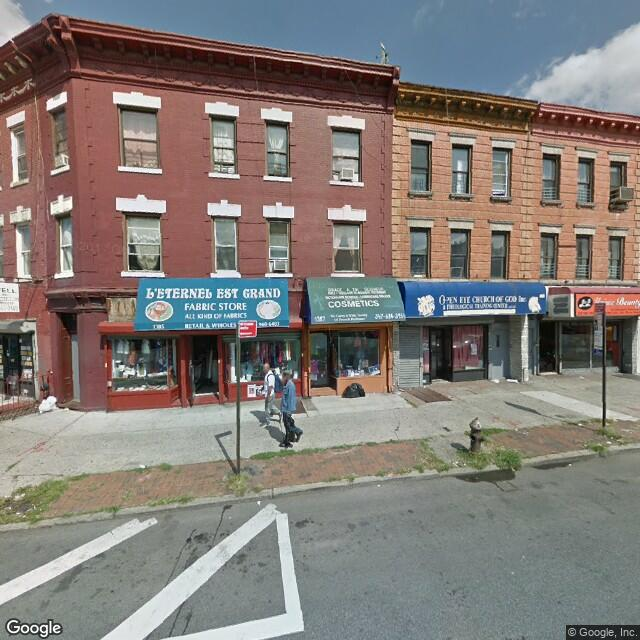litter: (249, 497, 274, 510), (7, 490, 31, 503), (562, 462, 581, 472), (500, 375, 524, 382), (136, 462, 149, 474), (490, 378, 503, 388)
